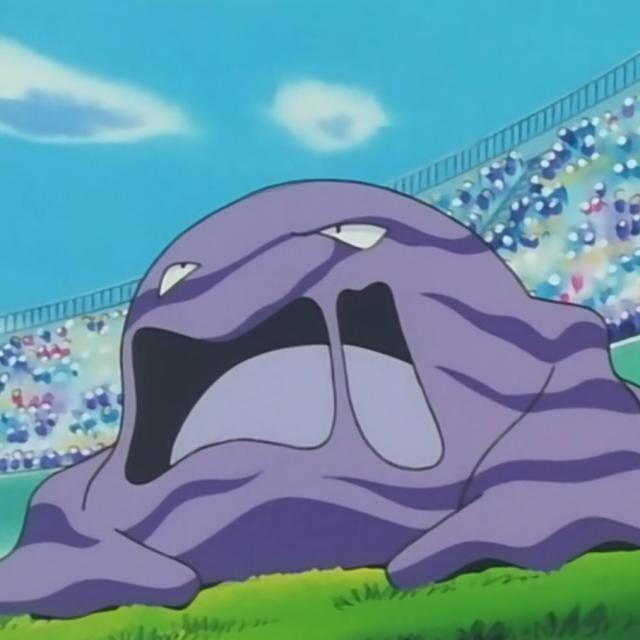Muk: (113, 178, 612, 582)
